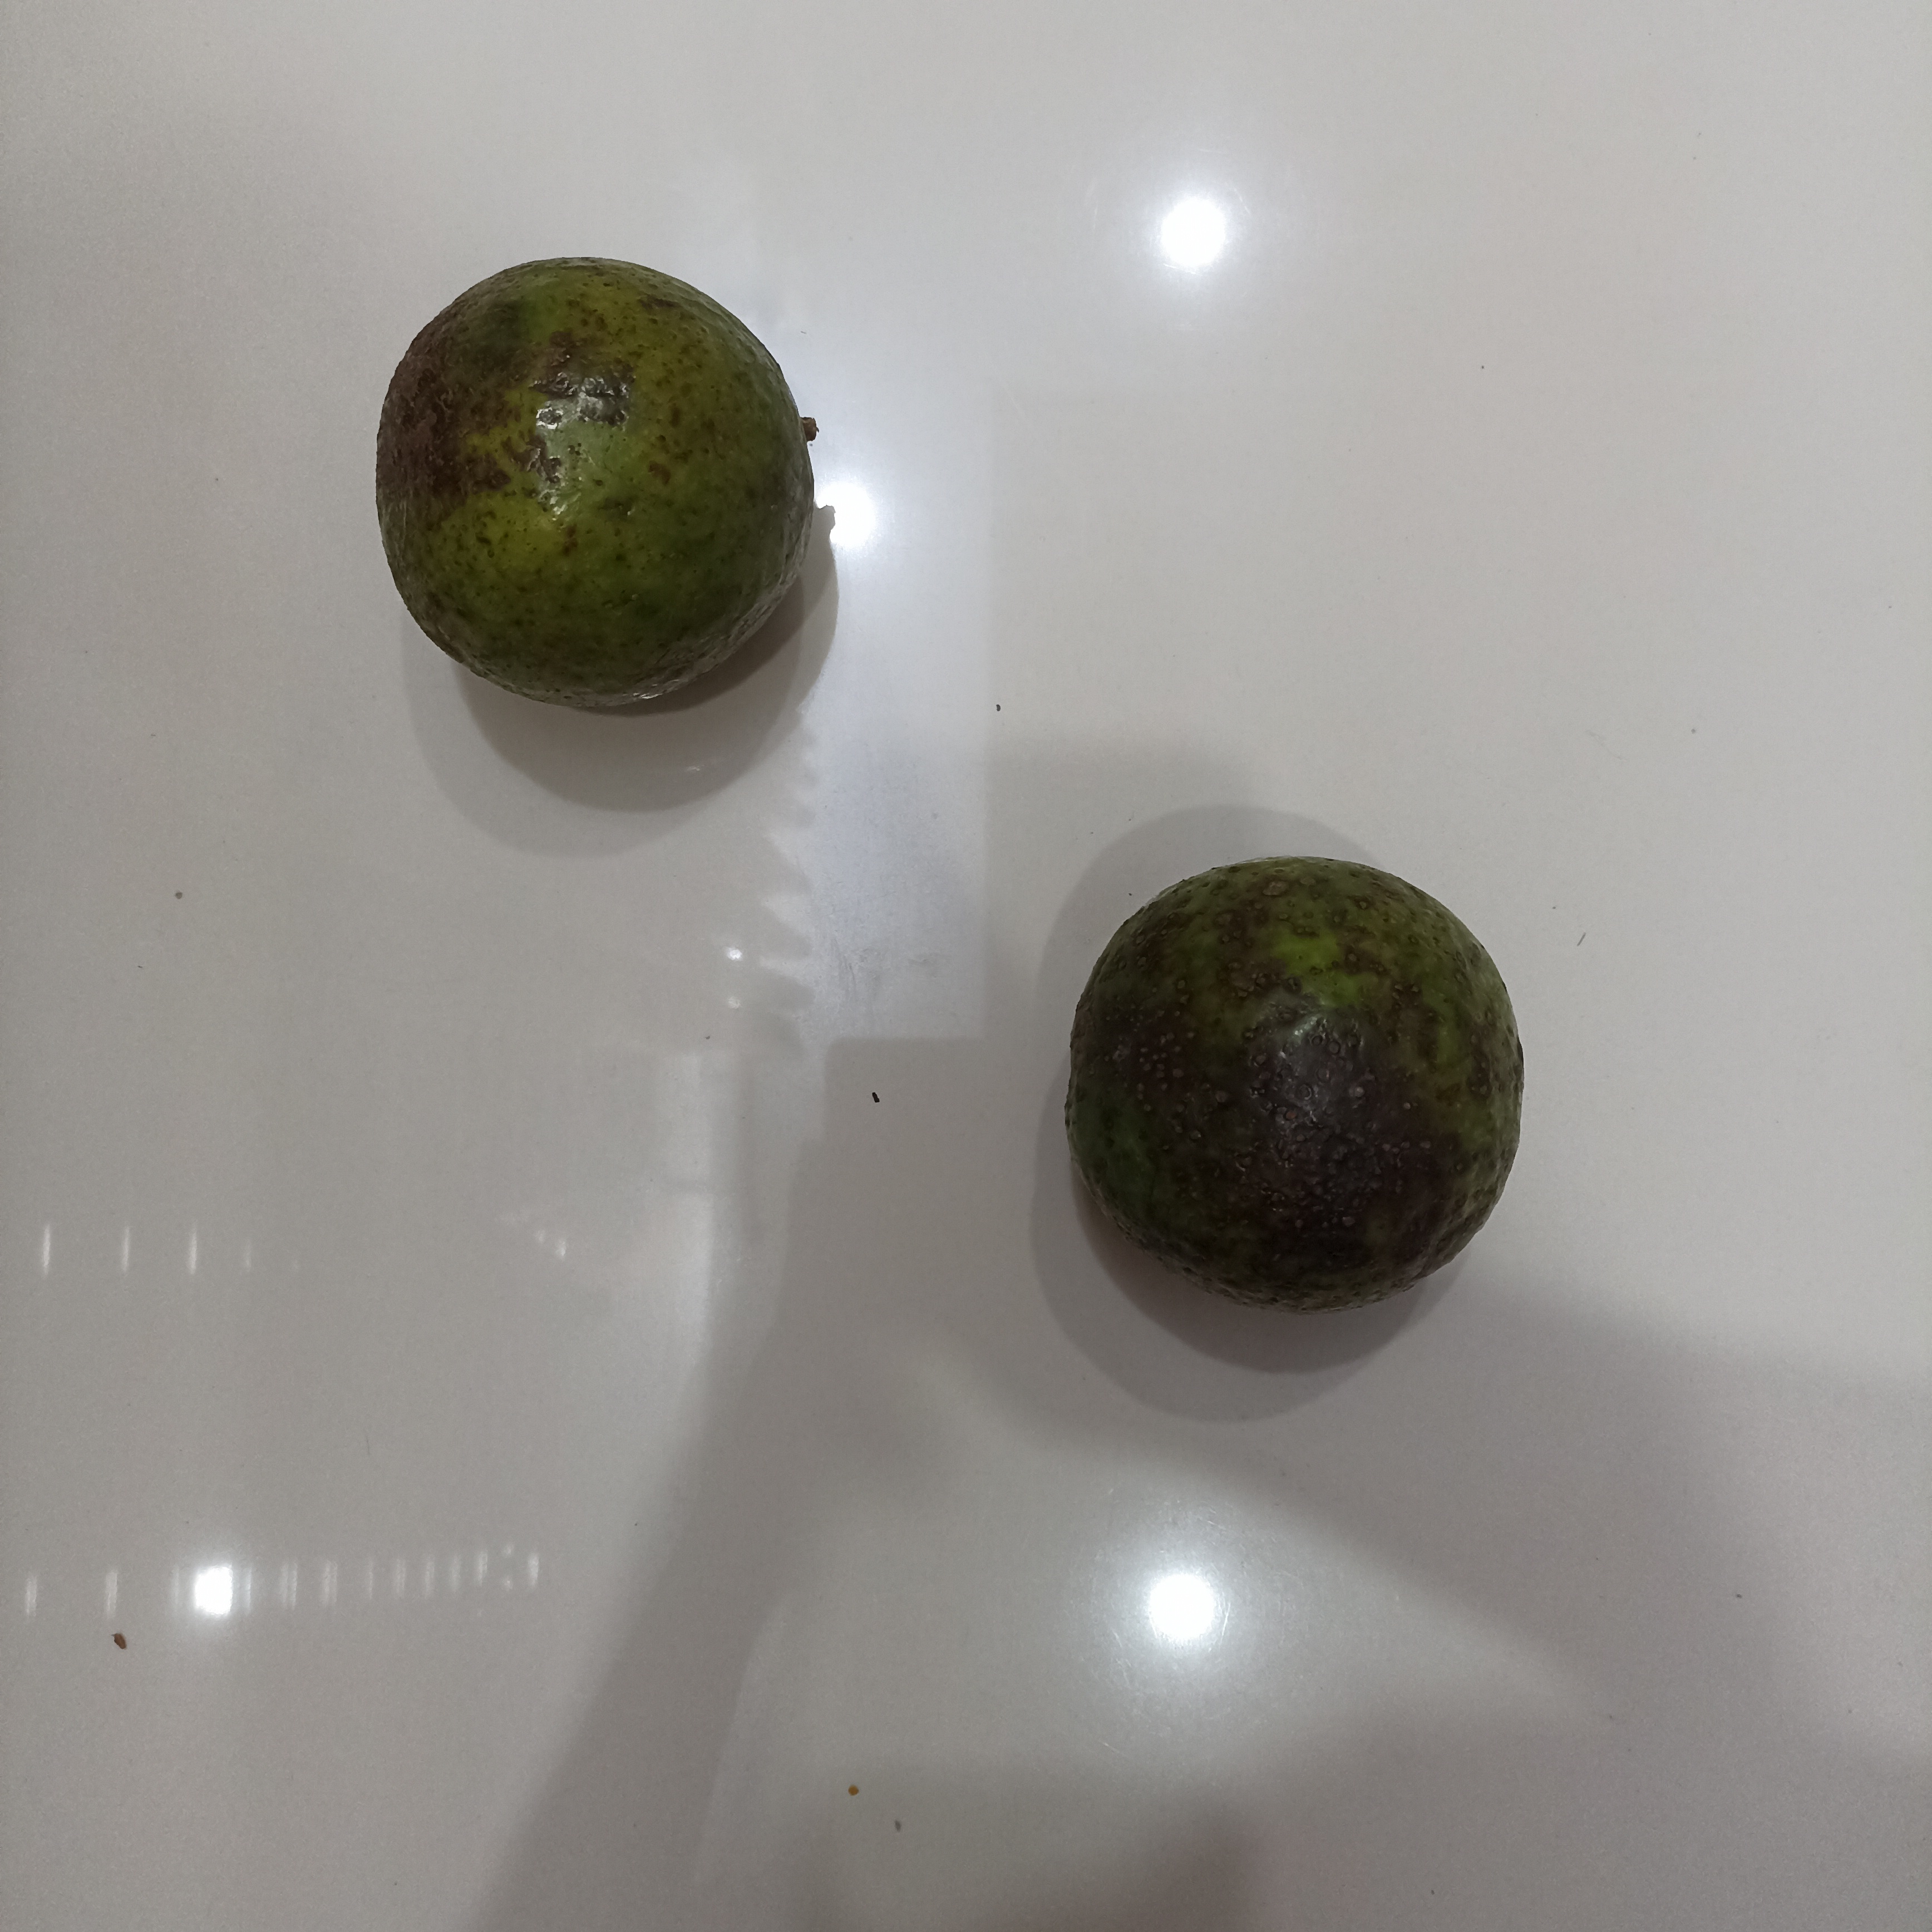Bo: (369, 253, 822, 722), (1071, 849, 1523, 1307)
